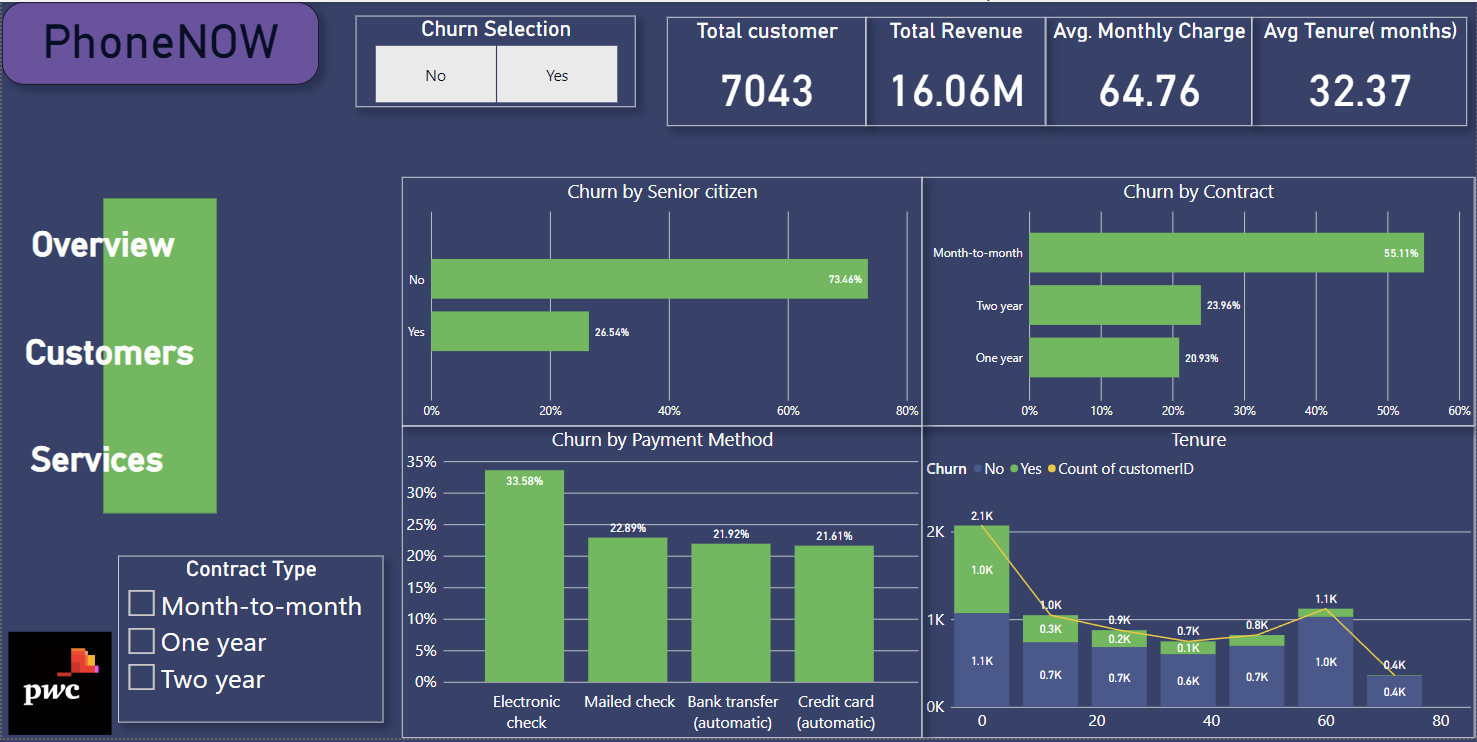

Layout of this report page (visuals, bound fields, positions):
{"tool":"powerbi","page":{"name":"Overview","canvas":[2000,1000],"ordinal":0},"visuals":[{"type":"lineStackedColumnComboChart","title":"Tenure ","fields":{"Category":["01 Churn-Dataset.tenure (bins)"],"Series":["01 Churn-Dataset.Churn"],"Y":["CountNonNull(01 Churn-Dataset.customerID)"],"Y2":["CountNonNull(01 Churn-Dataset.customerID)"]},"box":[1250,576,750,424],"z":0},{"type":"barChart","title":"Churn by Contract","fields":{"Category":["01 Churn-Dataset.Contract1"],"Y":["Divide(CountNonNull(01 Churn-Dataset.TotalCharges), ScopedEval(CountNonNull(01 Churn-Dataset.TotalCharges), []))"]},"box":[1250,238,750,338],"z":1000},{"type":"textbox","box":[0,0,430,112],"z":2000},{"type":"card","title":"Total customer","fields":{"Values":["CountNonNull(01 Churn-Dataset.customerID)"]},"box":[904,20,270,148],"z":3000},{"type":"image","box":[0,850,158,150],"z":4000},{"type":"card","title":"Total Revenue","fields":{"Values":["Sum(01 Churn-Dataset.TotalCharges)"]},"box":[1174,20,244,148],"z":5000},{"type":"shape","box":[138,266,154,428],"z":6000},{"type":"actionButton","box":[0,424,292,100],"z":7000},{"type":"actionButton","box":[8,278,258,100],"z":8000},{"type":"actionButton","box":[0,570,258,100],"z":9000},{"type":"slicer","title":"Churn Selection","fields":{"Values":["01 Churn-Dataset.Churn"]},"box":[480,18,380,124],"z":10000},{"type":"card","title":"Avg Tenure( months)","fields":{"Values":["Avg(01 Churn-Dataset.tenure)"]},"box":[1698,20,292,148],"z":11000},{"type":"card","title":"Avg. Monthly Charge","fields":{"Values":["Avg(01 Churn-Dataset.MonthlyCharges)"]},"box":[1418,20,280,148],"z":12000},{"type":"barChart","title":"Churn by Senior citizen","fields":{"Category":["01 Churn-Dataset.Churn"],"Y":["Divide(CountNonNull(01 Churn-Dataset.SeniorCitizen), ScopedEval(CountNonNull(01 Churn-Dataset.SeniorCitizen), []))"]},"box":[544,238,706,338],"z":12001},{"type":"columnChart","title":"Churn by Payment Method","fields":{"Category":["01 Churn-Dataset.PaymentMethod"],"Y":["CountNonNull(01 Churn-Dataset.Contract)"]},"box":[544,576,706,424],"z":12002},{"type":"slicer","title":"Contract Type","fields":{"Values":["01 Churn-Dataset.Contract"]},"box":[158,752,360,226],"z":12003},{"type":"actionButton","box":[0,0,100,40],"z":12004}]}

Visuals, with their boxes in screenshot pixels (x1, y1, x2, y2), scaled from the page's 2000x1000 canvas onto the 1477x742 screenshot:
"Tenure " lineStackedColumnComboChart: box(923, 427, 1476, 741)
"Churn by Contract" barChart: box(923, 177, 1476, 427)
textbox: box(0, 0, 318, 83)
"Total customer" card: box(668, 15, 867, 125)
image: box(0, 631, 117, 741)
"Total Revenue" card: box(867, 15, 1047, 125)
shape: box(102, 197, 216, 515)
actionButton: box(0, 315, 216, 389)
actionButton: box(6, 206, 196, 280)
actionButton: box(0, 423, 191, 497)
"Churn Selection" slicer: box(354, 13, 635, 105)
"Avg Tenure( months)" card: box(1254, 15, 1470, 125)
"Avg. Monthly Charge" card: box(1047, 15, 1254, 125)
"Churn by Senior citizen" barChart: box(402, 177, 923, 427)
"Churn by Payment Method" columnChart: box(402, 427, 923, 741)
"Contract Type" slicer: box(117, 558, 383, 726)
actionButton: box(0, 0, 74, 30)
